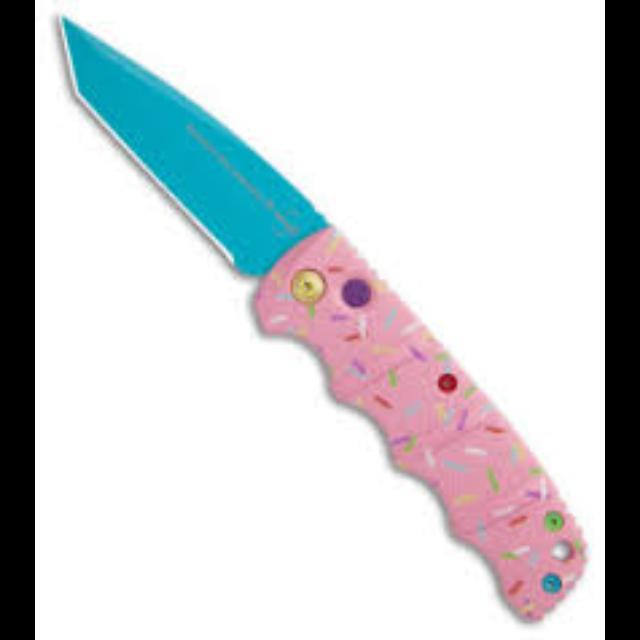knife: (57, 11, 589, 621)
